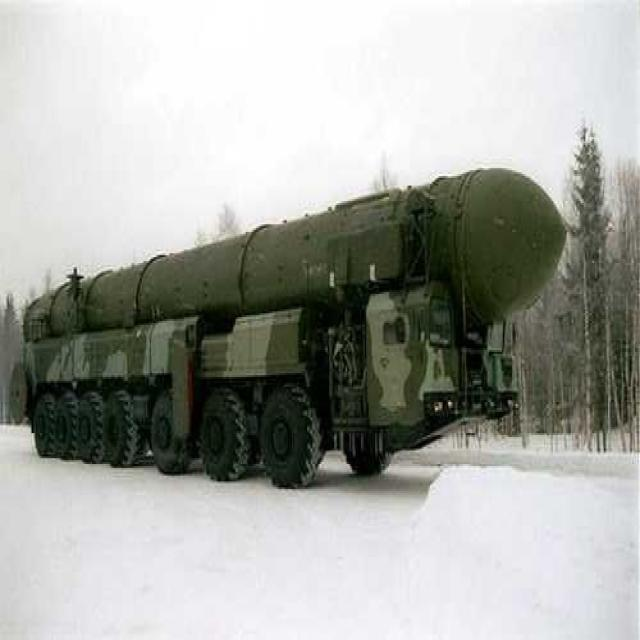missile: (20, 160, 568, 370)
